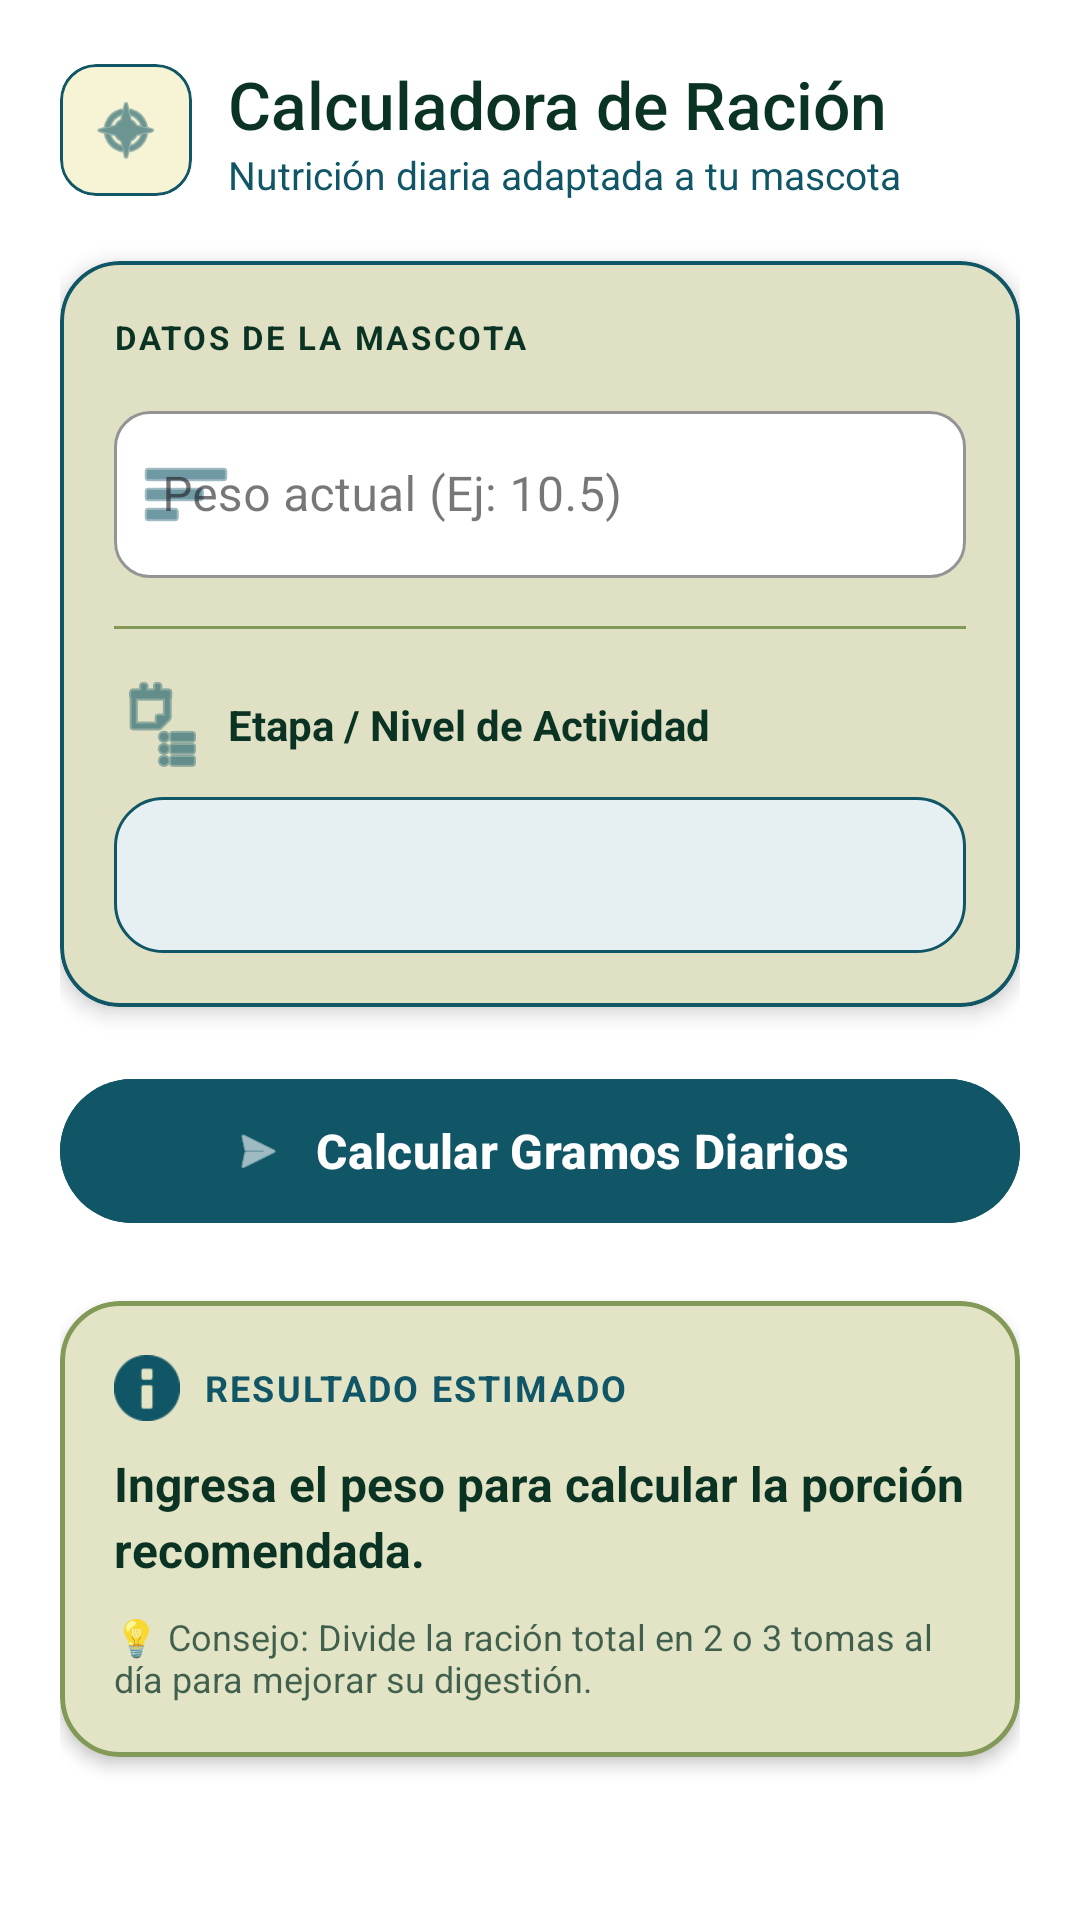

Where icons sit on this 1080px×1920px app screen, as (x1, y1, x2, y2):
compass: (97, 102, 154, 159)
info: (114, 1355, 180, 1421)
